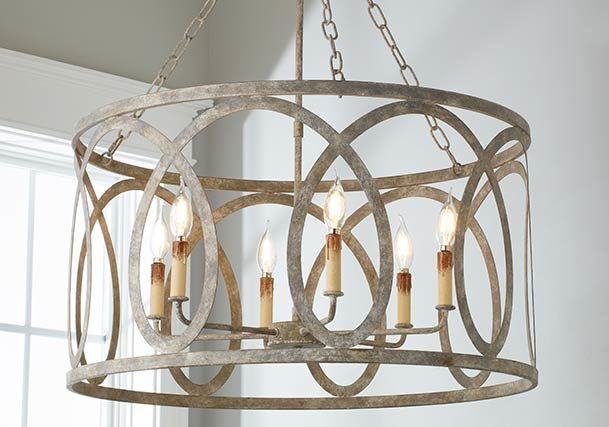chandelier: (53, 3, 556, 417)
